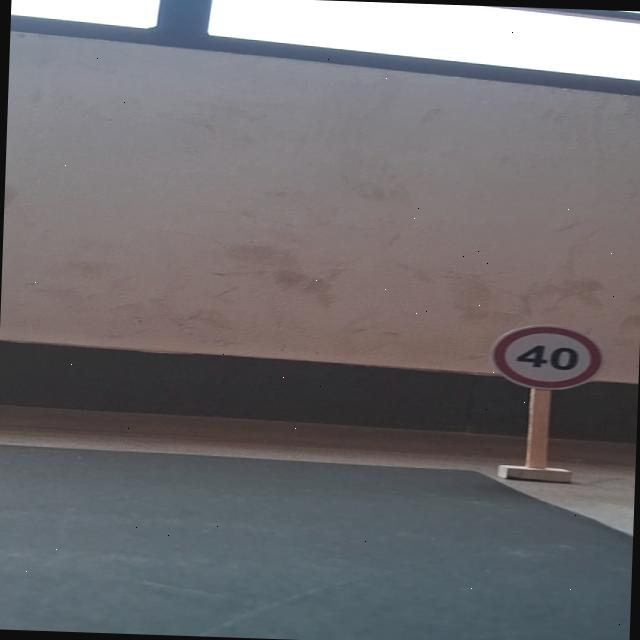Speed40: (486, 320, 610, 394)
